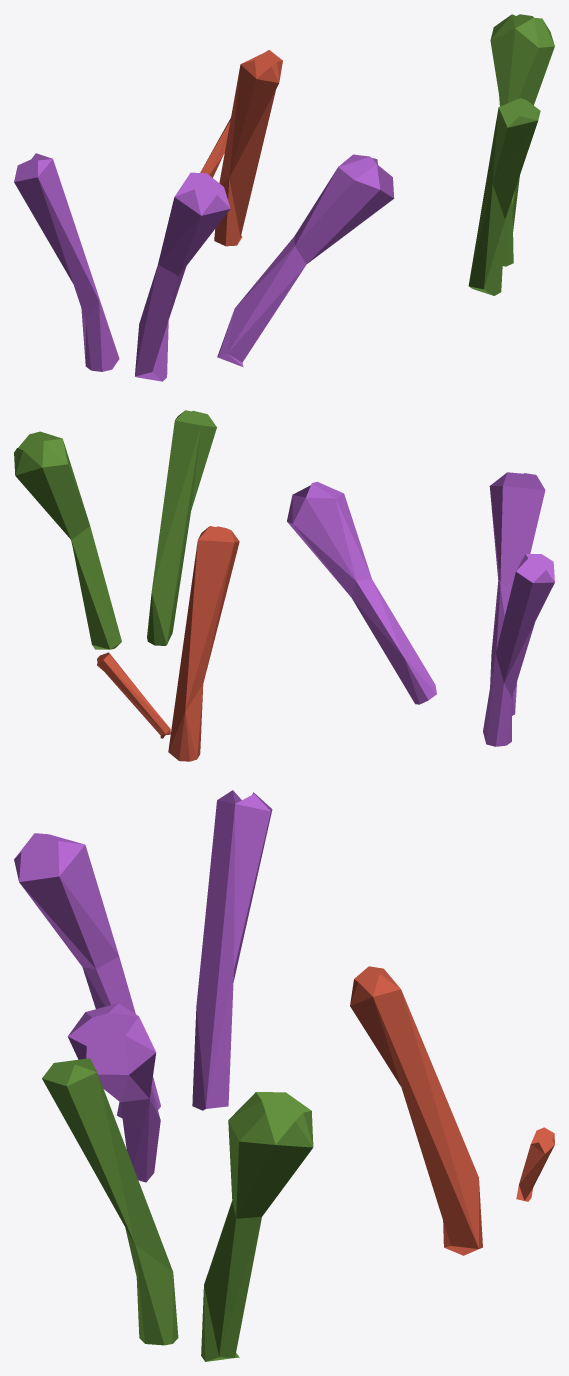
File: stickCoral.fbx
3 views of the same model, one above another, from view 1: azimuth 30°, elevation 25°; view 2: azimuth 150°, elevation 25°; view 3: azimuth 270°, elevation 25° (orthographic). The views are drawn at different scales.
Parts seen in each view (by area): view 1: 1stickCoral; view 2: 1stickCoral; view 3: 1stickCoral.
Part boxes in pixels (<box>): 1stickCoral: <box>14,14,554,381</box>; 1stickCoral: <box>14,410,554,761</box>; 1stickCoral: <box>14,790,554,1361</box>.
Size of the model in its own units: 6.87 by 2.76 by 4.47.
